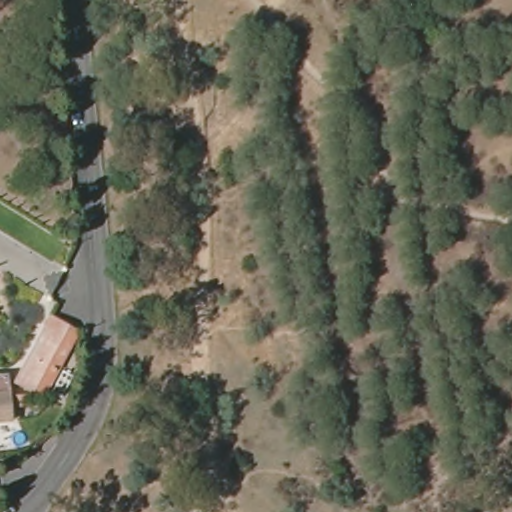pool: (10, 425, 28, 447)
